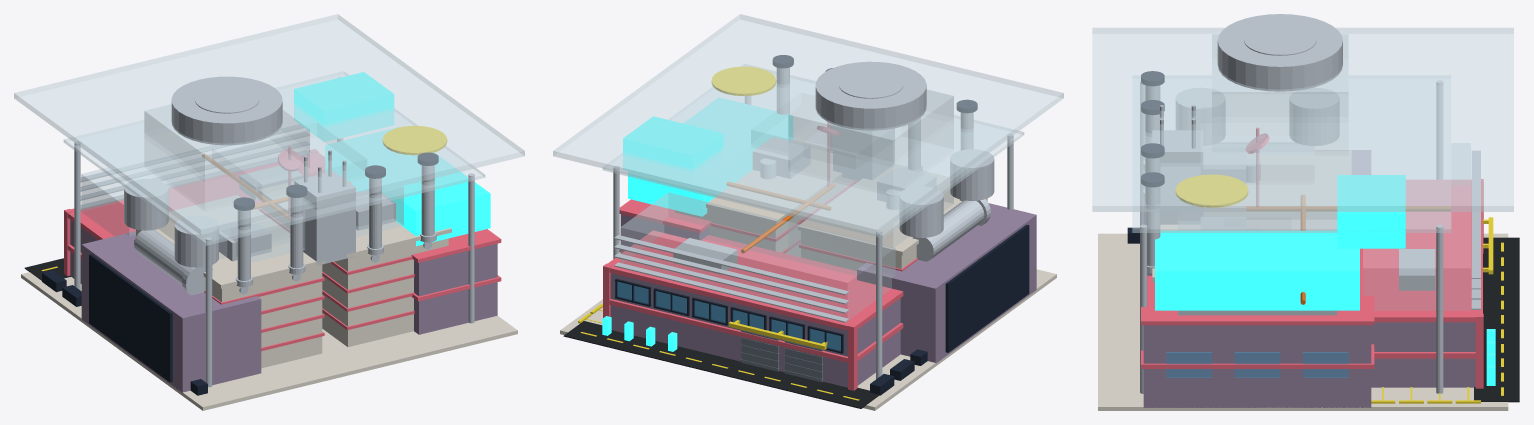
File: hq_02_powertrain_l7.glb
The picture shows the model from 3 angles, left to right: view 1: azimuth 30°, elevation 25°; view 2: azimuth 150°, elevation 25°; view 3: azimuth 270°, elevation 25°; orthographic projection. The views are drawn at different scales.
Parts seen in each view (by area): view 1: GEO_Parametric_Aerogel_Canopy, GEO_Dyno_Bunkers_Concrete, GEO_Photovoltaic_Solar_Canopy, GEO_West_Turbo_Wing, GEO_Plinth_Foundation, GEO_SiC_Cleanroom_Facility, GEO_Quantum_Battery_Synthesis_Tower, GEO_NextGen_Fusion_Research_Ring, GEO_Living_Biophilic_Green_Wall, GEO_East_Transmission_Wing, GEO_Holographic_Observatory_Skybridge, GEO_Emissions_Analyzer_Tower (+19 smaller); view 2: GEO_Parametric_Aerogel_Canopy, GEO_Photovoltaic_Solar_Canopy, GEO_Curtain_Glass_Mezzanine, GEO_Dyno_Bunkers_Concrete, GEO_Workshop_Structural_Beams, GEO_Front_Workshop_Brick, GEO_West_Turbo_Wing, GEO_Quantum_Battery_Synthesis_Tower, GEO_SiC_Cleanroom_Facility, GEO_NextGen_Fusion_Research_Ring, GEO_Living_Biophilic_Green_Wall, GEO_South_Sunshade_Louvers (+22 smaller); view 3: GEO_Parametric_Aerogel_Canopy, GEO_Photovoltaic_Solar_Canopy, GEO_East_Transmission_Wing, GEO_SiC_Cleanroom_Facility, GEO_Workshop_Structural_Beams, GEO_Plinth_Foundation, GEO_NextGen_Fusion_Research_Ring, GEO_Curtain_Glass_Mezzanine, GEO_Dyno_Bunkers_Concrete, GEO_Quantum_Battery_Synthesis_Tower, GEO_Front_Workshop_Brick, GEO_Front_Apron_Asphalt (+20 smaller).
Boxes of the visible parts, x1,y1,x2,y2 form: GEO_Parametric_Aerogel_Canopy: (14, 14, 524, 234); GEO_Dyno_Bunkers_Concrete: (136, 181, 451, 368); GEO_Photovoltaic_Solar_Canopy: (63, 71, 485, 245); GEO_West_Turbo_Wing: (81, 231, 261, 392); GEO_Plinth_Foundation: (21, 272, 517, 410); GEO_SiC_Cleanroom_Facility: (325, 127, 490, 246); GEO_Quantum_Battery_Synthesis_Tower: (144, 104, 309, 259); GEO_NextGen_Fusion_Research_Ring: (171, 76, 282, 145); GEO_Living_Biophilic_Green_Wall: (89, 254, 172, 382); GEO_East_Transmission_Wing: (414, 243, 497, 334); GEO_Holographic_Observatory_Skybridge: (294, 72, 394, 141); GEO_Emissions_Analyzer_Tower: (294, 150, 355, 265); GEO_Parametric_Aerogel_Canopy: (553, 14, 1063, 234); GEO_Photovoltaic_Solar_Canopy: (602, 64, 1024, 238); GEO_Curtain_Glass_Mezzanine: (620, 192, 895, 318); GEO_Dyno_Bunkers_Concrete: (675, 139, 987, 270); GEO_Workshop_Structural_Beams: (603, 230, 903, 390); GEO_Front_Workshop_Brick: (610, 273, 900, 387); GEO_West_Turbo_Wing: (857, 203, 1036, 363); GEO_Quantum_Battery_Synthesis_Tower: (788, 89, 953, 256); GEO_SiC_Cleanroom_Facility: (628, 98, 792, 216); GEO_NextGen_Fusion_Research_Ring: (815, 61, 926, 130); GEO_Living_Biophilic_Green_Wall: (945, 224, 1029, 352); GEO_South_Sunshade_Louvers: (614, 235, 849, 322); GEO_Parametric_Aerogel_Canopy: (1092, 27, 1513, 211); GEO_Photovoltaic_Solar_Canopy: (1132, 75, 1451, 232); GEO_East_Transmission_Wing: (1143, 325, 1371, 407); GEO_SiC_Cleanroom_Facility: (1155, 230, 1359, 310); GEO_Workshop_Structural_Beams: (1360, 179, 1483, 388); GEO_Plinth_Foundation: (1098, 233, 1508, 410); GEO_NextGen_Fusion_Research_Ring: (1217, 14, 1342, 91); GEO_Curtain_Glass_Mezzanine: (1363, 143, 1470, 310); GEO_Dyno_Bunkers_Concrete: (1152, 150, 1351, 281); GEO_Quantum_Battery_Synthesis_Tower: (1212, 34, 1348, 122); GEO_Front_Workshop_Brick: (1371, 322, 1475, 387); GEO_Front_Apron_Asphalt: (1474, 237, 1519, 402).
Size of what is drawn, in the model's own units: 38 by 24.8 by 37.5.
